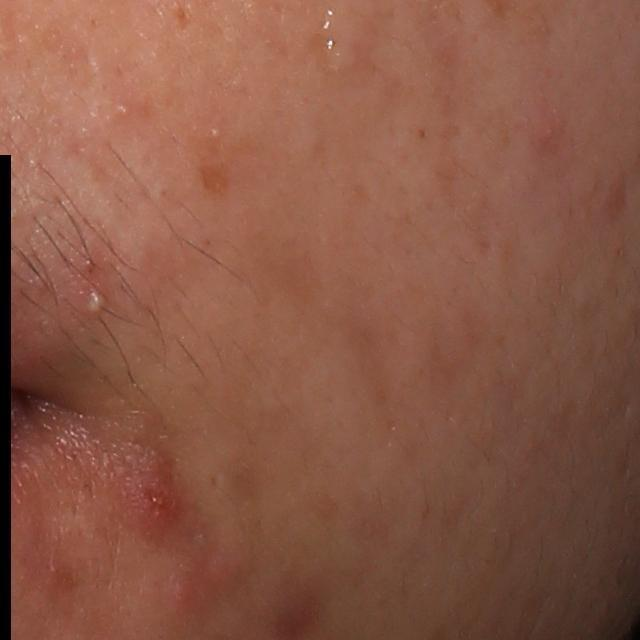papule: (120, 464, 185, 538)
pustule: (81, 275, 112, 319)
